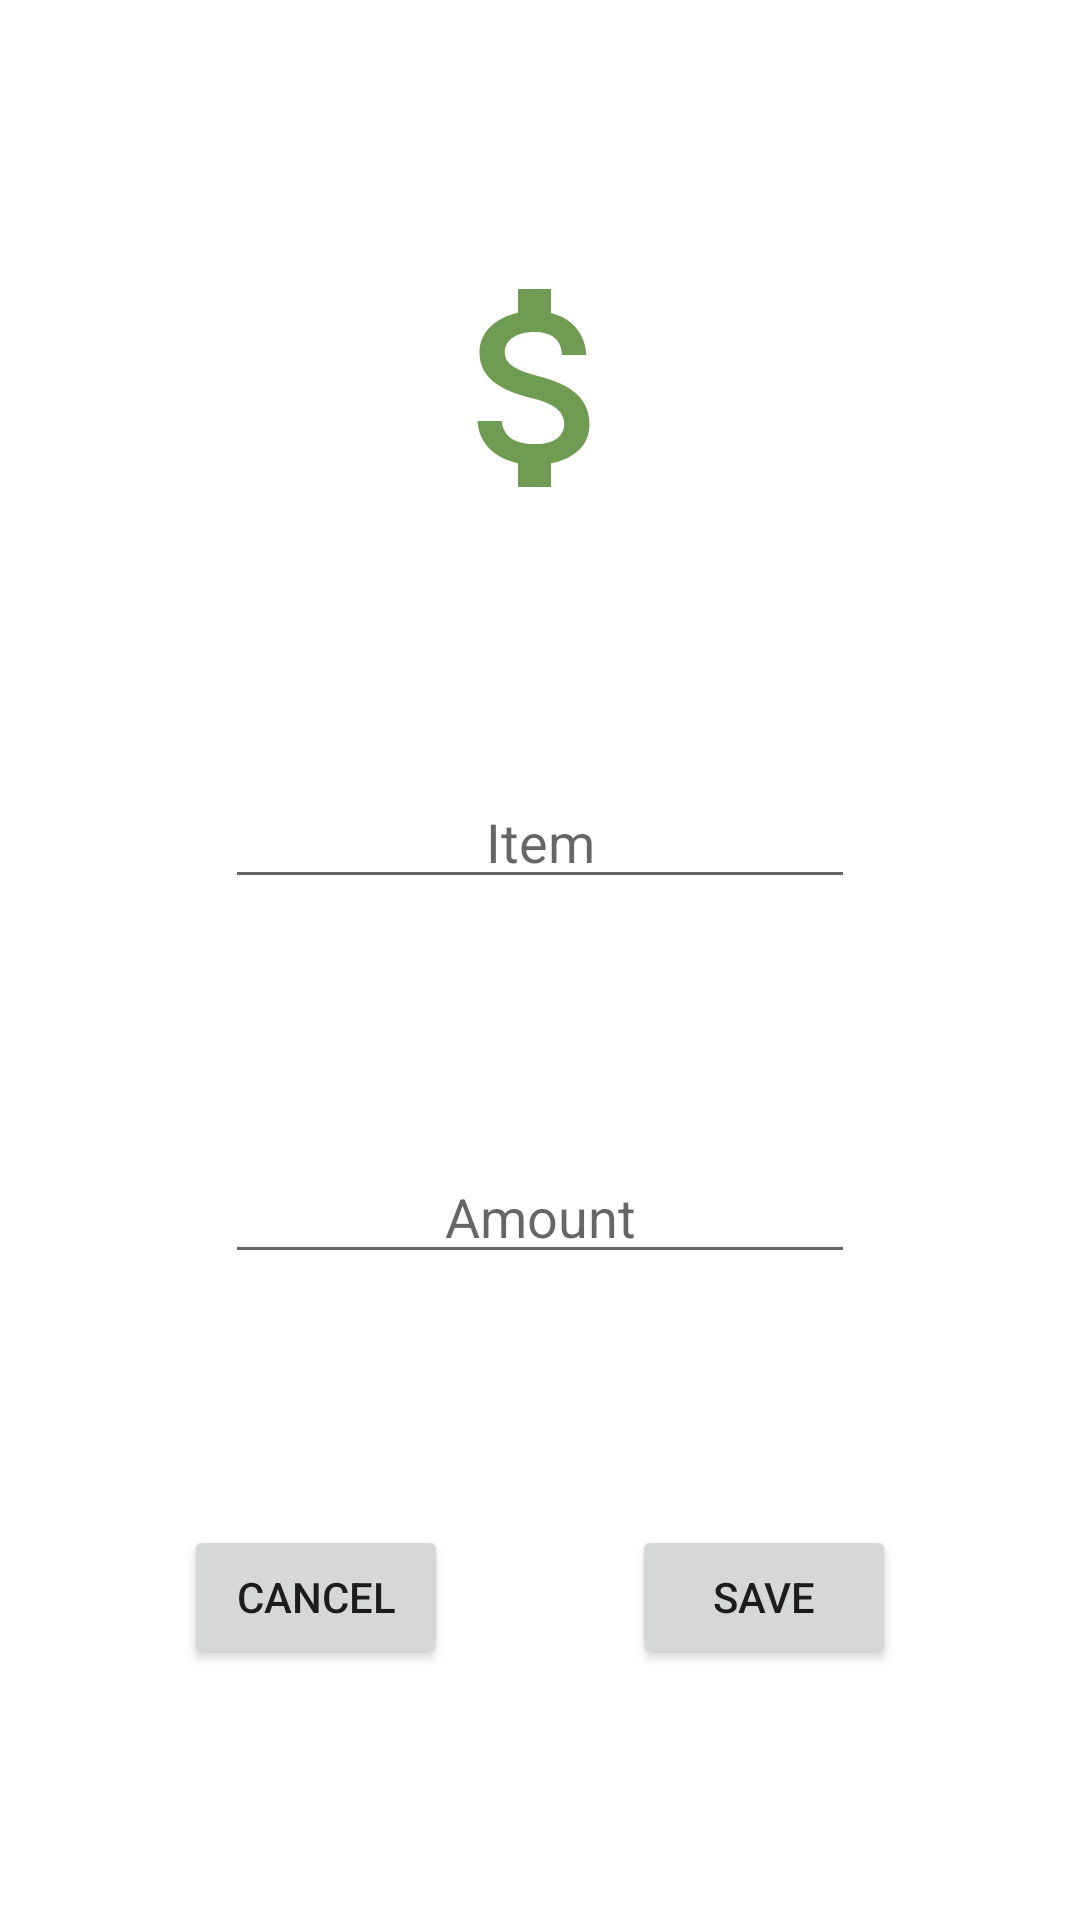

Locate icon controls on the screen. Image size 1080×1920, boxes as (x1, y1, x2, y2).
attach money: (477, 289, 590, 487)
